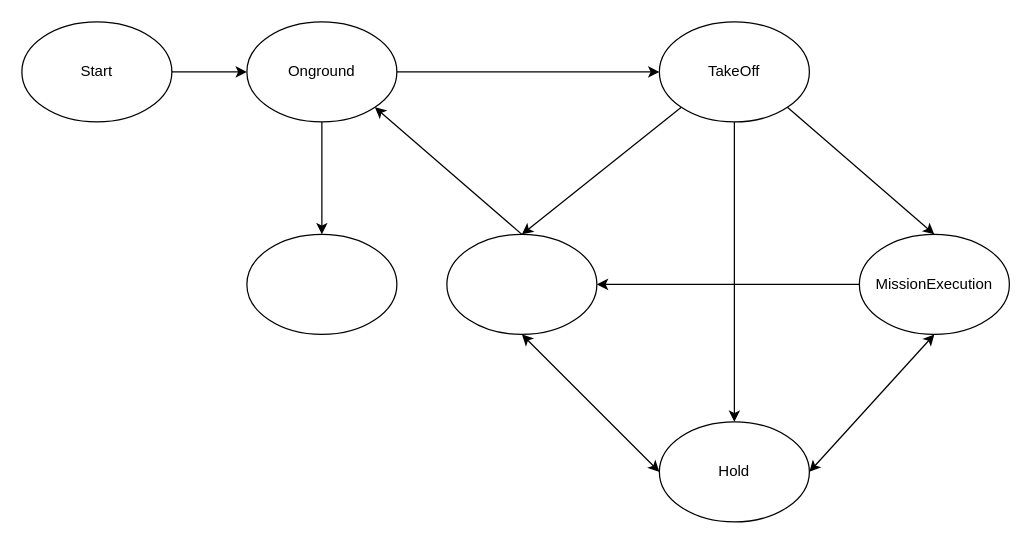
This 1031x544 diagram has some shape labels left out. The shapes that lost their labels are listed below. From the top down, each one's centre as x and y in pixels, then its label:
At (321,283): "End".
At (521,283): "Landing".
